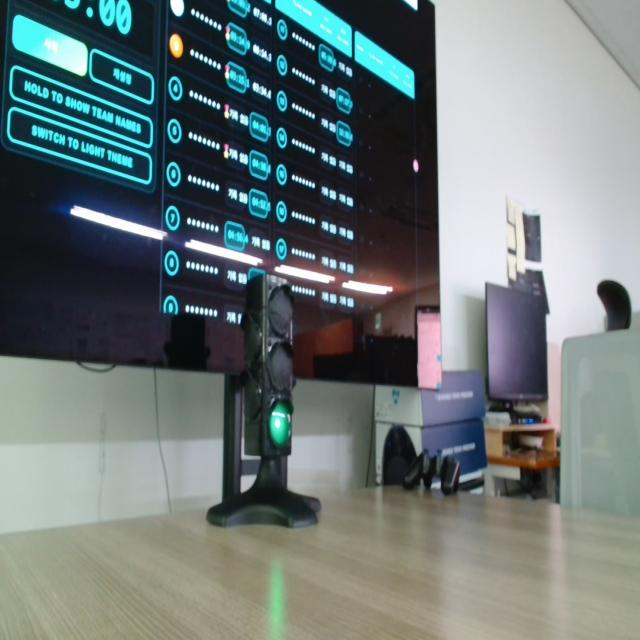green_light: (270, 402, 292, 447)
